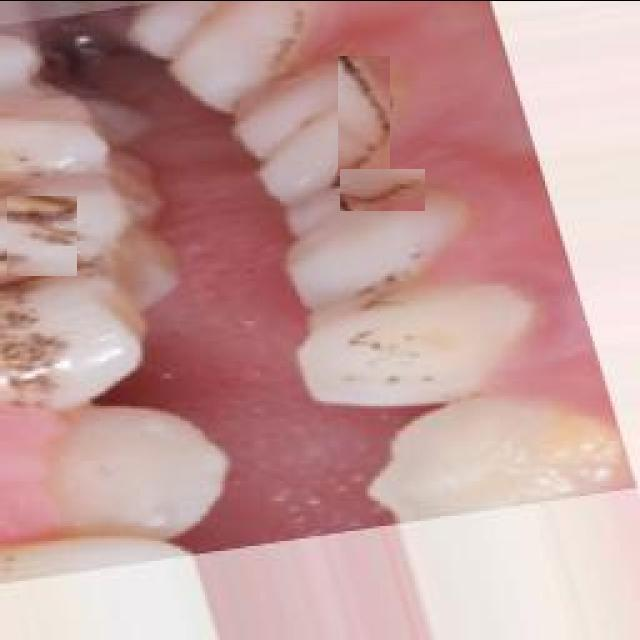caries: (2, 287, 60, 405), (338, 55, 390, 175), (8, 195, 78, 275), (340, 168, 425, 210)
